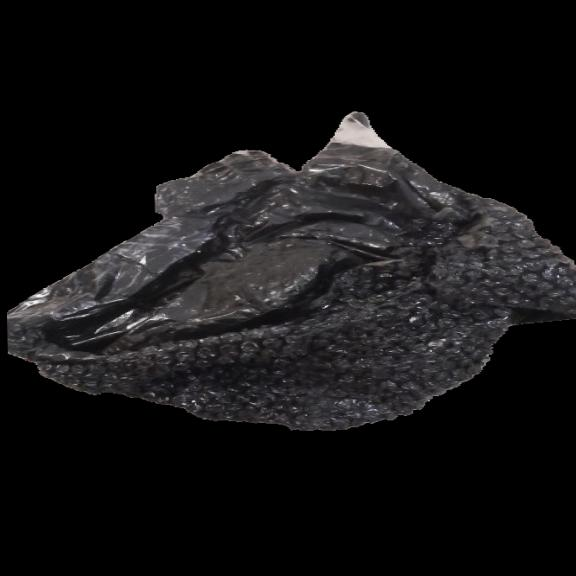Plastik: (2, 104, 576, 434)
